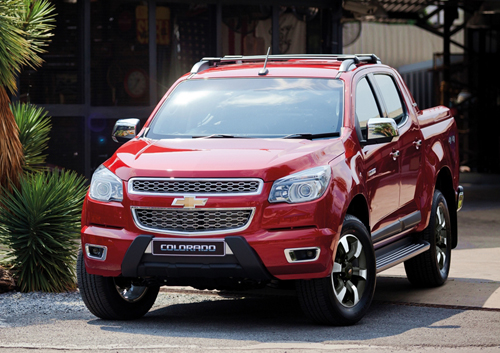pickup: (73, 51, 466, 328)
